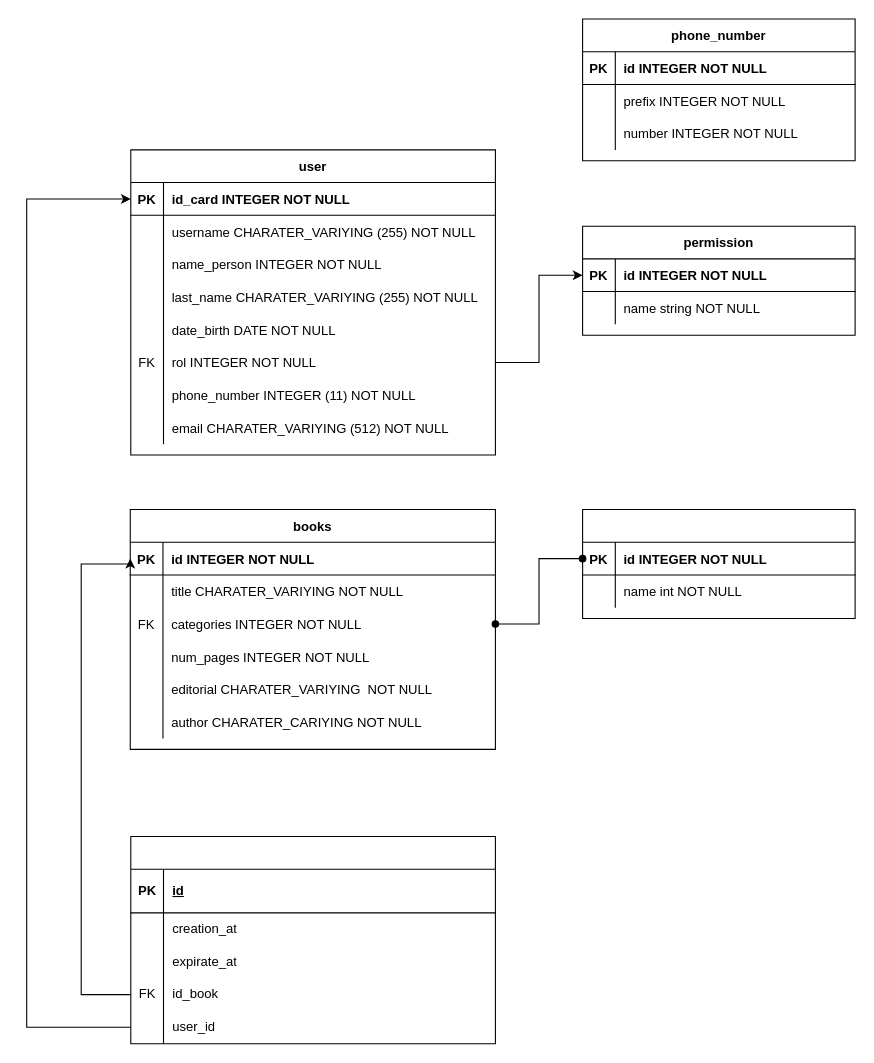
Some shapes in this 874 by 1063 pixel diagram are drawn without their labels. Here are the shapes that lost their labels. From the top down, the box of each, then its label:
(582, 508, 855, 619): categories
(130, 835, 495, 1044): loan
